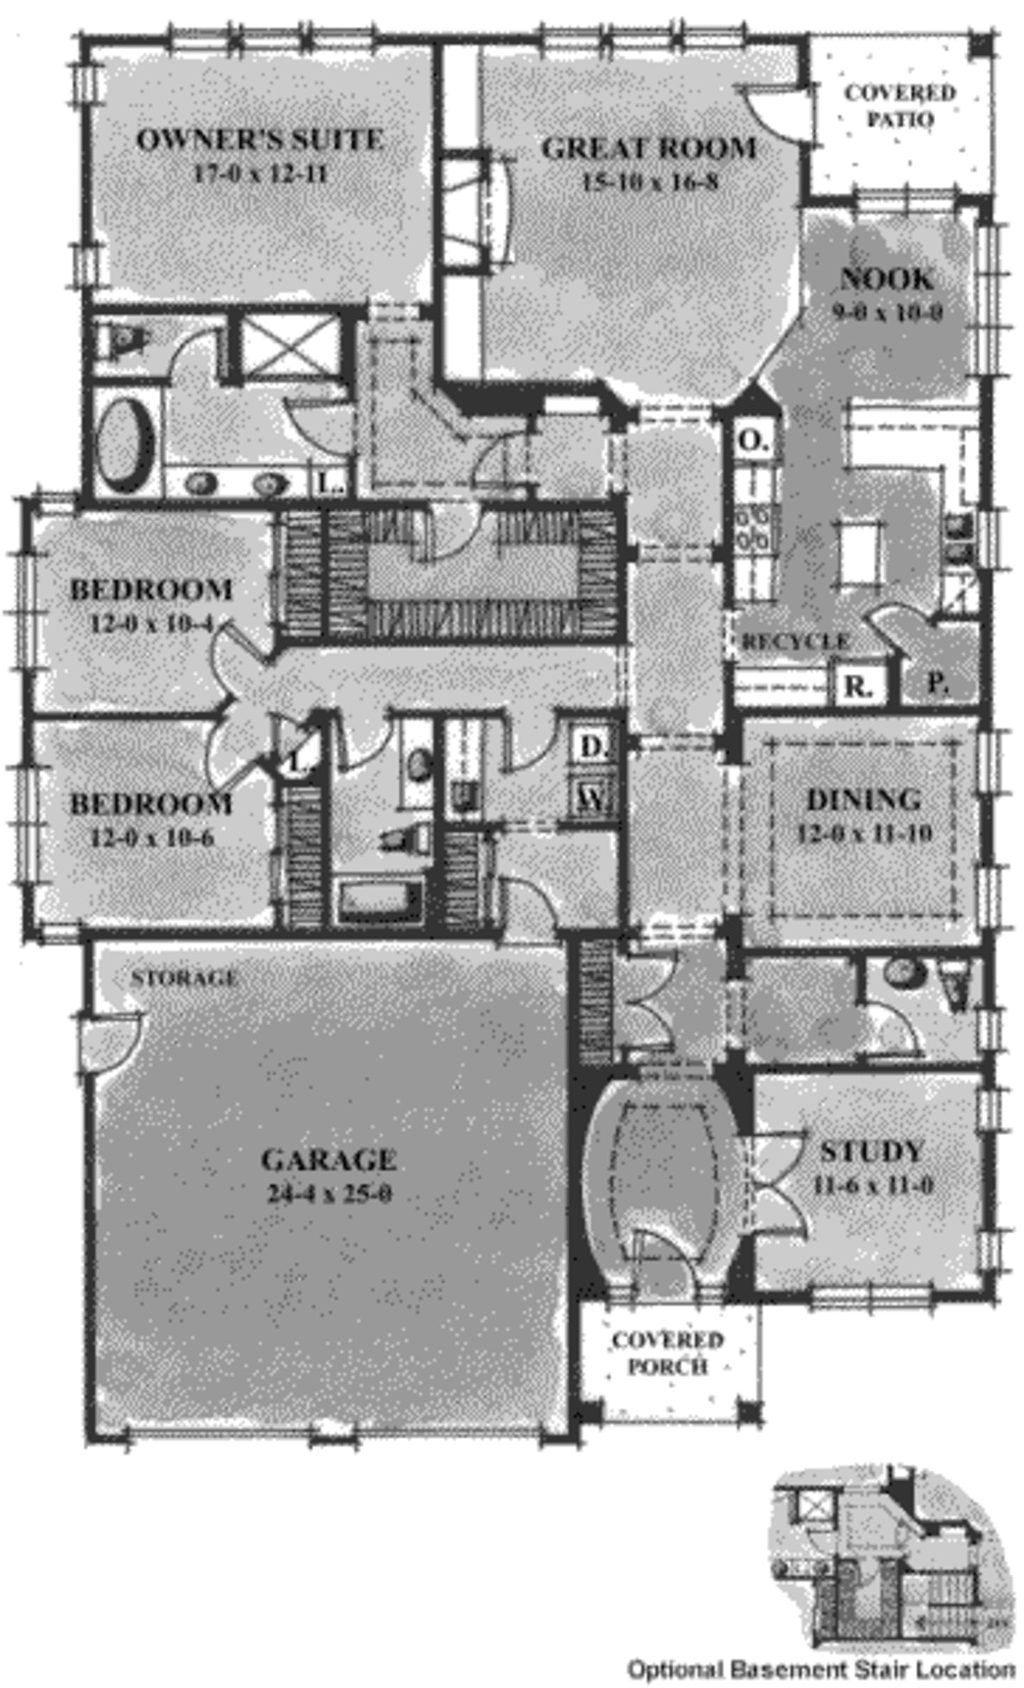door: (602, 933, 702, 1057), (726, 1121, 817, 1238), (853, 593, 972, 680), (621, 1205, 710, 1312), (728, 77, 842, 152), (474, 864, 561, 954), (268, 391, 361, 470), (207, 610, 277, 701), (186, 723, 270, 796), (854, 987, 928, 1069), (467, 421, 548, 493), (68, 1006, 150, 1071), (414, 493, 488, 564), (328, 710, 396, 770), (160, 329, 224, 389), (498, 707, 558, 768)
large_sink: (359, 807, 441, 864), (930, 953, 982, 1021), (96, 313, 160, 368)
small_sink: (858, 934, 947, 1001), (402, 722, 437, 811)
tib: (96, 377, 168, 500)
tub: (335, 873, 440, 933)
twin_sink: (926, 485, 1003, 578)
window: (153, 19, 393, 66), (529, 17, 753, 52), (796, 1268, 944, 1317), (12, 550, 54, 687), (7, 761, 49, 898), (969, 728, 1024, 811), (969, 863, 1024, 939), (969, 1223, 1022, 1278), (975, 1082, 1017, 1150), (969, 1000, 1010, 1069)
